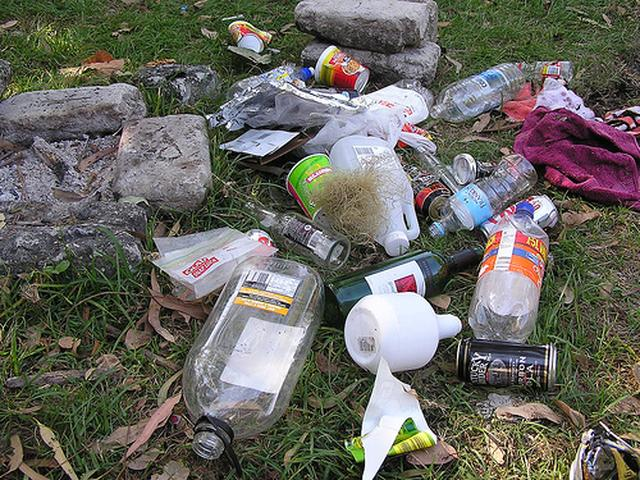garbage: (243, 81, 547, 303)
